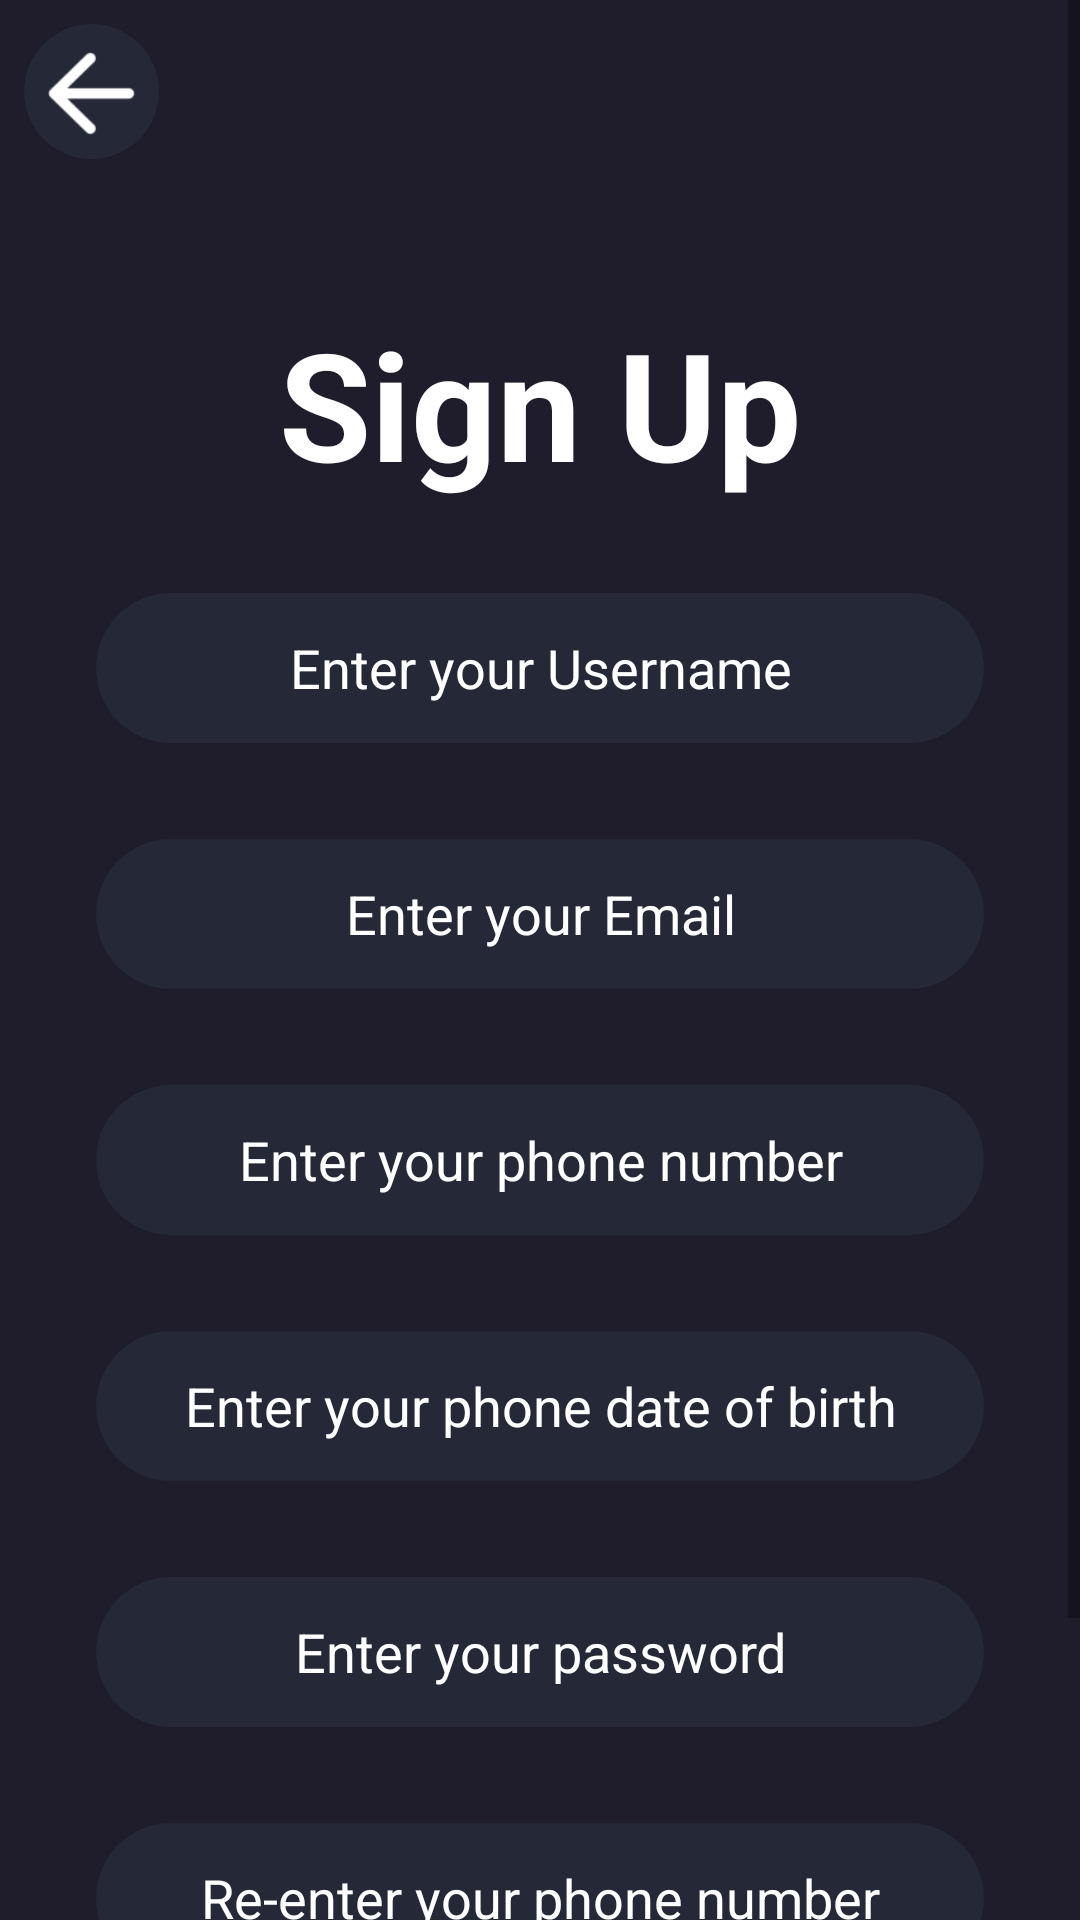

Icons on this 1080px×1920px Android screen, each with its box as rect(x1, y1, x2, y2):
back: rect(24, 24, 159, 159)
